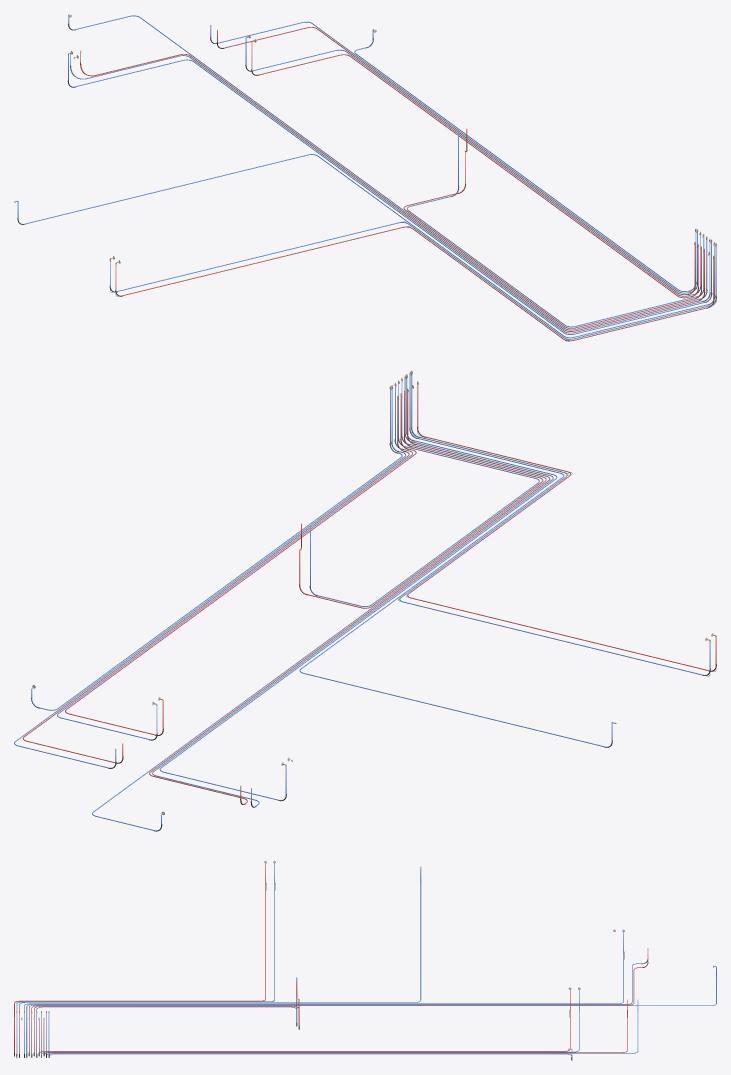
The model's file is slab_pipes_supply__plumbing-pex.glb.
The picture shows the model from 3 angles, top to bottom: view 1: azimuth 30°, elevation 25°; view 2: azimuth 150°, elevation 25°; view 3: azimuth 270°, elevation 25°; orthographic projection. The views are drawn at different scales.
Visible parts, largest first — view 1: pipe_supply_branch_hosebib_back__pex, pipe_supply_branch_hallbath_tub_cold__pex, pipe_supply_branch_hallbath_toilet__pex, pipe_supply_branch_hallbath_vanity_cold__pex, pipe_supply_branch_hallbath_tub_hot__pex, pipe_supply_branch_kitchen_cold__pex, pipe_supply_branch_kitchen_hot__pex, pipe_supply_branch_master_tub_cold__pex, pipe_supply_branch_master_tub_hot__pex, pipe_supply_branch_master_vanity_cold__pex, pipe_supply_branch_master_vanity_hot__pex, pipe_supply_branch_master_toilet__pex (+2 smaller); view 2: pipe_supply_branch_hosebib_back__pex, pipe_supply_branch_hallbath_vanity_cold__pex, pipe_supply_branch_hallbath_toilet__pex, pipe_supply_branch_hallbath_tub_hot__pex, pipe_supply_branch_hallbath_tub_cold__pex, pipe_supply_branch_kitchen_cold__pex, pipe_supply_branch_kitchen_hot__pex, pipe_supply_branch_master_tub_cold__pex, pipe_supply_branch_master_tub_hot__pex, pipe_supply_branch_master_vanity_hot__pex, pipe_supply_branch_master_vanity_cold__pex, pipe_supply_branch_laundry_hot__pex (+2 smaller); view 3: pipe_supply_branch_hallbath_tub_hot__pex, pipe_supply_branch_master_vanity_cold__pex, pipe_supply_branch_master_toilet__pex, pipe_supply_branch_hallbath_toilet__pex, pipe_supply_branch_hallbath_tub_cold__pex, pipe_supply_branch_master_tub_cold__pex, pipe_supply_branch_hallbath_vanity_cold__pex, pipe_supply_branch_hosebib_back__pex, pipe_supply_branch_master_tub_hot__pex, pipe_supply_branch_kitchen_hot__pex, pipe_supply_branch_master_vanity_hot__pex, pipe_supply_branch_laundry_cold__pex (+2 smaller).
Part boxes in pixels (box(x1,y1,x2,y2)): pipe_supply_branch_hosebib_back__pex: box(16, 154, 714, 338); pipe_supply_branch_hallbath_tub_cold__pex: box(70, 54, 710, 333); pipe_supply_branch_hallbath_toilet__pex: box(68, 15, 707, 330); pipe_supply_branch_hallbath_vanity_cold__pex: box(68, 52, 711, 334); pipe_supply_branch_hallbath_tub_hot__pex: box(80, 52, 704, 331); pipe_supply_branch_kitchen_cold__pex: box(110, 222, 716, 339); pipe_supply_branch_kitchen_hot__pex: box(115, 226, 714, 341); pipe_supply_branch_master_tub_cold__pex: box(210, 21, 697, 293); pipe_supply_branch_master_tub_hot__pex: box(217, 27, 695, 294); pipe_supply_branch_master_vanity_cold__pex: box(245, 36, 700, 296); pipe_supply_branch_master_vanity_hot__pex: box(251, 41, 698, 298); pipe_supply_branch_master_toilet__pex: box(354, 29, 696, 291); pipe_supply_branch_hosebib_back__pex: box(299, 374, 614, 747); pipe_supply_branch_hallbath_vanity_cold__pex: box(159, 377, 557, 800); pipe_supply_branch_hallbath_toilet__pex: box(92, 381, 546, 830); pipe_supply_branch_hallbath_tub_hot__pex: box(149, 392, 550, 804); pipe_supply_branch_hallbath_tub_cold__pex: box(152, 378, 553, 806); pipe_supply_branch_kitchen_cold__pex: box(399, 374, 710, 675); pipe_supply_branch_kitchen_hot__pex: box(407, 384, 716, 670); pipe_supply_branch_master_tub_cold__pex: box(14, 388, 405, 768); pipe_supply_branch_master_tub_hot__pex: box(23, 399, 409, 763); pipe_supply_branch_master_vanity_hot__pex: box(65, 396, 416, 735); pipe_supply_branch_master_vanity_cold__pex: box(57, 385, 412, 739); pipe_supply_branch_laundry_hot__pex: box(299, 393, 543, 608); pipe_supply_branch_hallbath_tub_hot__pex: box(29, 953, 648, 1051); pipe_supply_branch_master_vanity_cold__pex: box(41, 989, 579, 1053); pipe_supply_branch_master_toilet__pex: box(48, 1013, 572, 1055); pipe_supply_branch_hallbath_toilet__pex: box(31, 966, 716, 1053); pipe_supply_branch_hallbath_tub_cold__pex: box(26, 949, 648, 1053); pipe_supply_branch_master_tub_cold__pex: box(46, 1001, 638, 1054); pipe_supply_branch_hallbath_vanity_cold__pex: box(24, 932, 623, 1053); pipe_supply_branch_hosebib_back__pex: box(19, 867, 421, 1053); pipe_supply_branch_master_tub_hot__pex: box(43, 1000, 627, 1053); pipe_supply_branch_kitchen_hot__pex: box(14, 863, 265, 1052); pipe_supply_branch_master_vanity_hot__pex: box(39, 989, 570, 1052); pipe_supply_branch_laundry_cold__pex: box(36, 977, 297, 1053).
Size of the model in its own units: 9.29 by 1.25 by 15.66.
